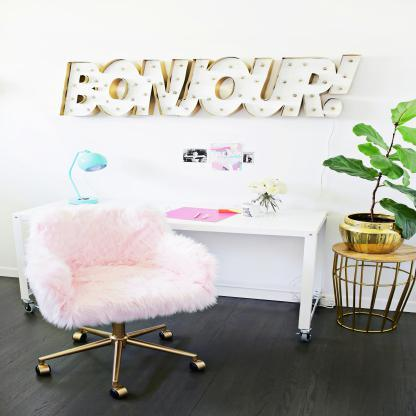chair: (24, 203, 216, 403)
light: (40, 144, 111, 209)
table: (32, 195, 330, 344), (334, 245, 416, 337)
